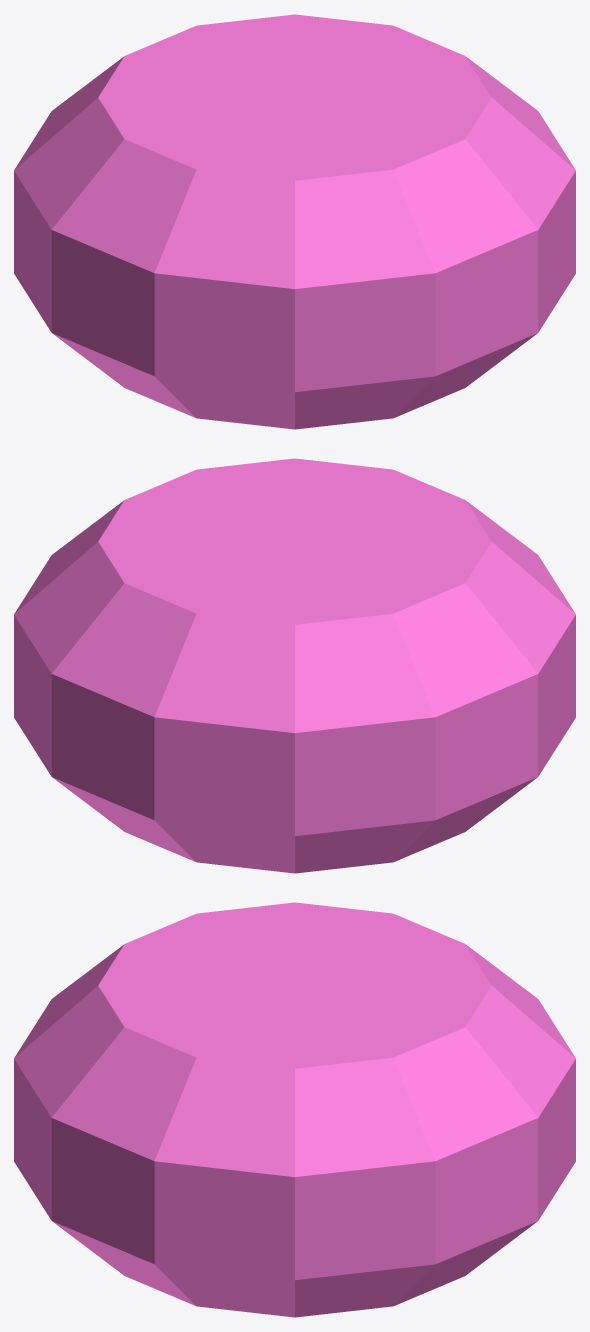
Rendered from Crystal_Pink_E.fbx.
3 renders of one model, top to bottom at view 1: azimuth 30°, elevation 25°; view 2: azimuth 150°, elevation 25°; view 3: azimuth 270°, elevation 25°, orthographic.
Parts seen in each view (by area): view 1: Crystal_Pink_E; view 2: Crystal_Pink_E; view 3: Crystal_Pink_E.
Part boxes in pixels (box(x1,y1,x2,y2)): Crystal_Pink_E: box(14, 14, 575, 429); Crystal_Pink_E: box(14, 458, 575, 873); Crystal_Pink_E: box(14, 902, 575, 1317).
Size of the model in its own units: 84.61 by 41.32 by 84.61.
